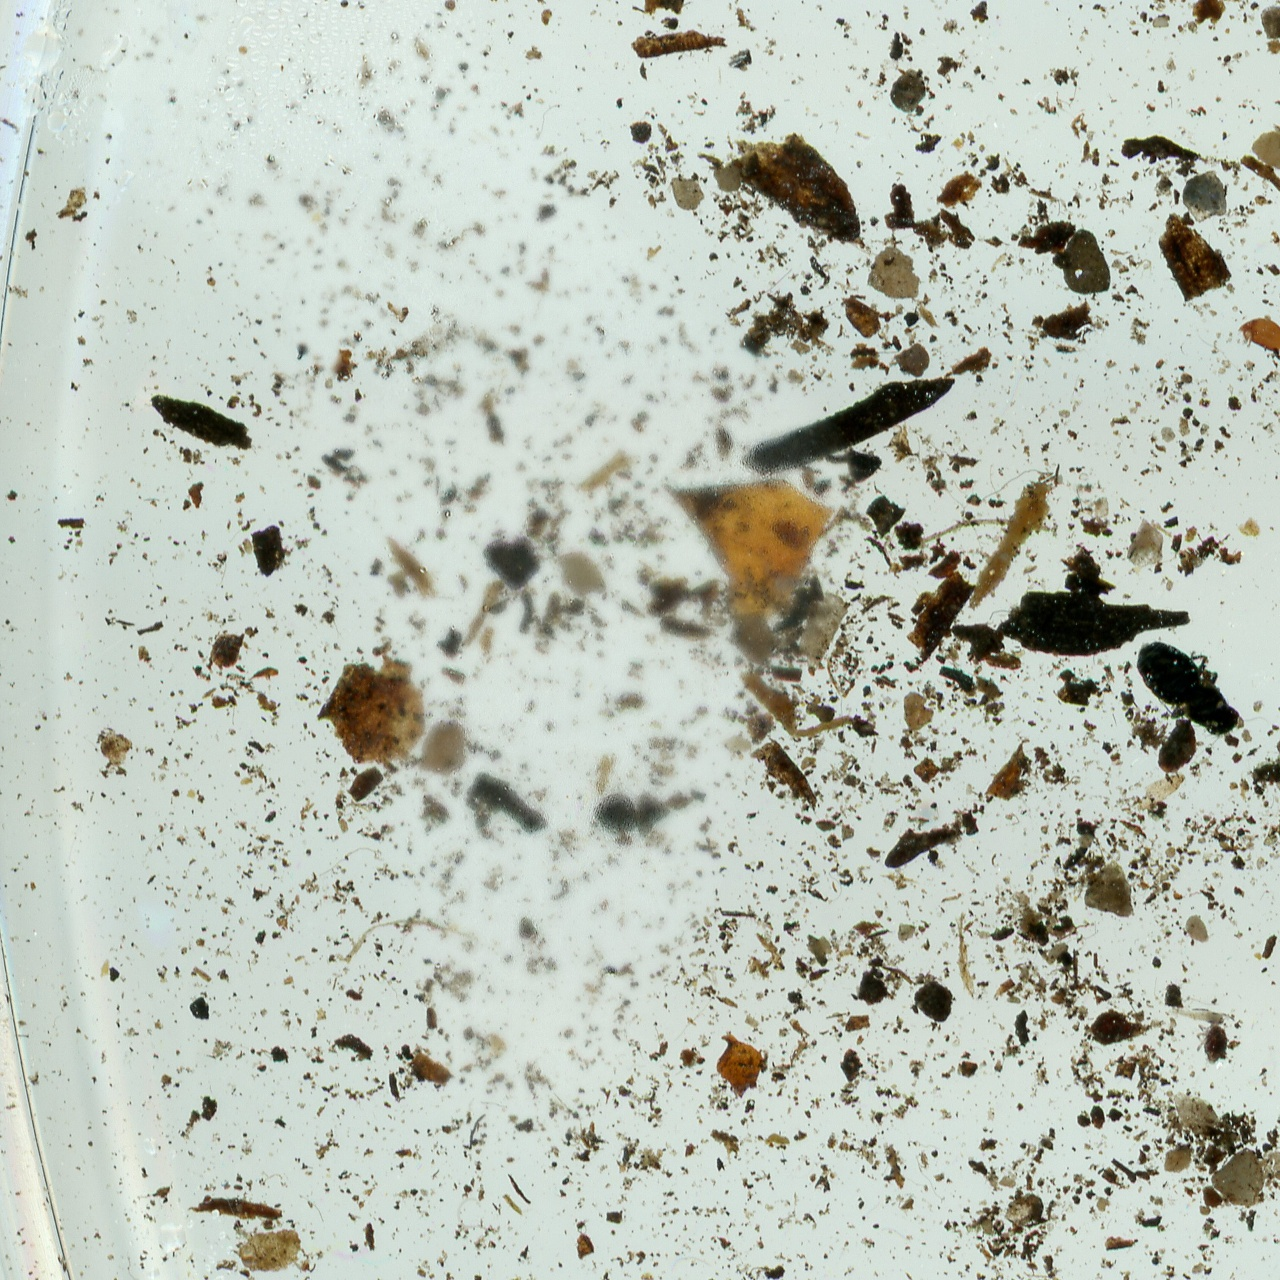arthropod: (1116, 618, 1280, 770), (1236, 315, 1280, 354)
